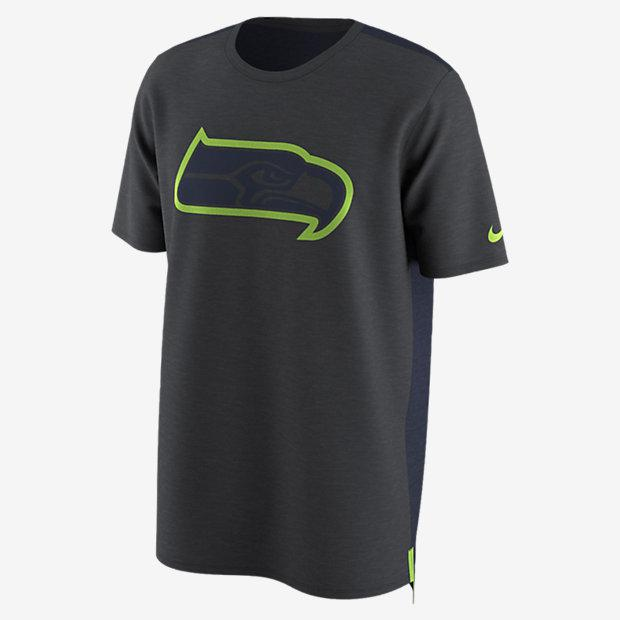teeshirt: (115, 8, 575, 615)
